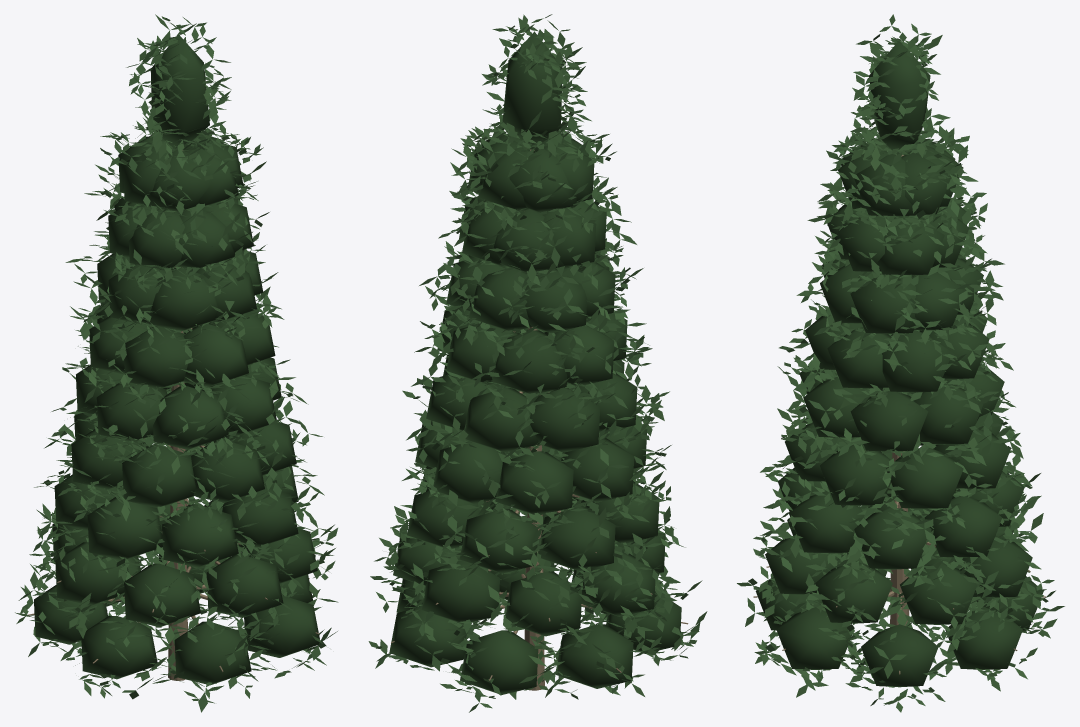
Rendered from park_conifer.glb.
The picture shows the model from 3 angles, left to right: view 1: azimuth 30°, elevation 25°; view 2: azimuth 150°, elevation 25°; view 3: azimuth 270°, elevation 25°; orthographic projection. The views are drawn at different scales.
Parts seen in each view (by area): view 1: Foliage_Core.001, Foliage.001, Wood.001; view 2: Foliage_Core.001, Foliage.001, Wood.001; view 3: Foliage_Core.001, Foliage.001, Wood.001.
Part boxes in pixels (x1=…): Foliage_Core.001: x1=34, y1=35, x2=320, y2=685; Foliage.001: x1=15, y1=14, x2=338, y2=712; Wood.001: x1=27, y1=150, x2=319, y2=680; Foliage_Core.001: x1=389, y1=31, x2=681, y2=694; Foliage.001: x1=368, y1=14, x2=707, y2=712; Wood.001: x1=391, y1=149, x2=688, y2=690; Foliage_Core.001: x1=755, y1=40, x2=1043, y2=687; Foliage.001: x1=737, y1=14, x2=1064, y2=712; Wood.001: x1=753, y1=155, x2=1045, y2=674.
Size of the model in its own units: 4.66 by 10.14 by 4.62.
